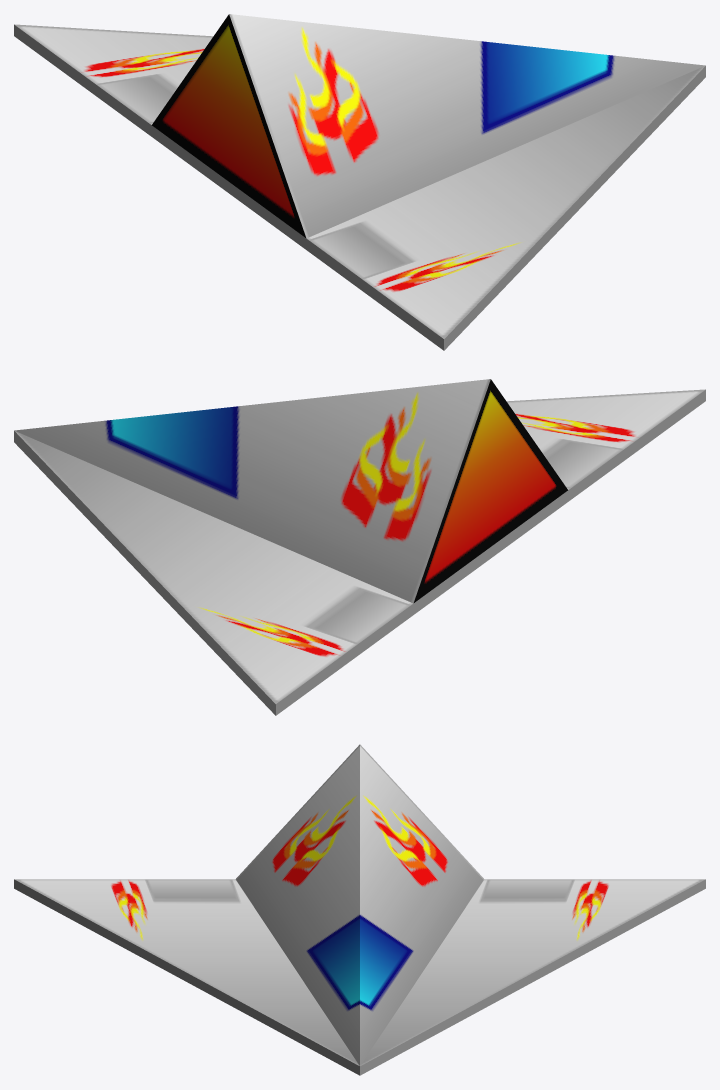
The model's file is nave.obj.
The picture shows the model from 3 angles, top to bottom: view 1: azimuth 30°, elevation 25°; view 2: azimuth 150°, elevation 25°; view 3: azimuth 270°, elevation 25°; orthographic projection. The views are drawn at different scales.
Parts seen in each view (by area): view 1: Cube_Cube.001; view 2: Cube_Cube.001; view 3: Cube_Cube.001.
Part boxes in pixels (x1,y1,x2,y2): Cube_Cube.001: (14,14,705,350); Cube_Cube.001: (14,379,705,715); Cube_Cube.001: (14,744,705,1075).
Bounding box in the file's own units: 2 × 0.7195 × 3.12.
Materials: 1 (1 with a texture image).
